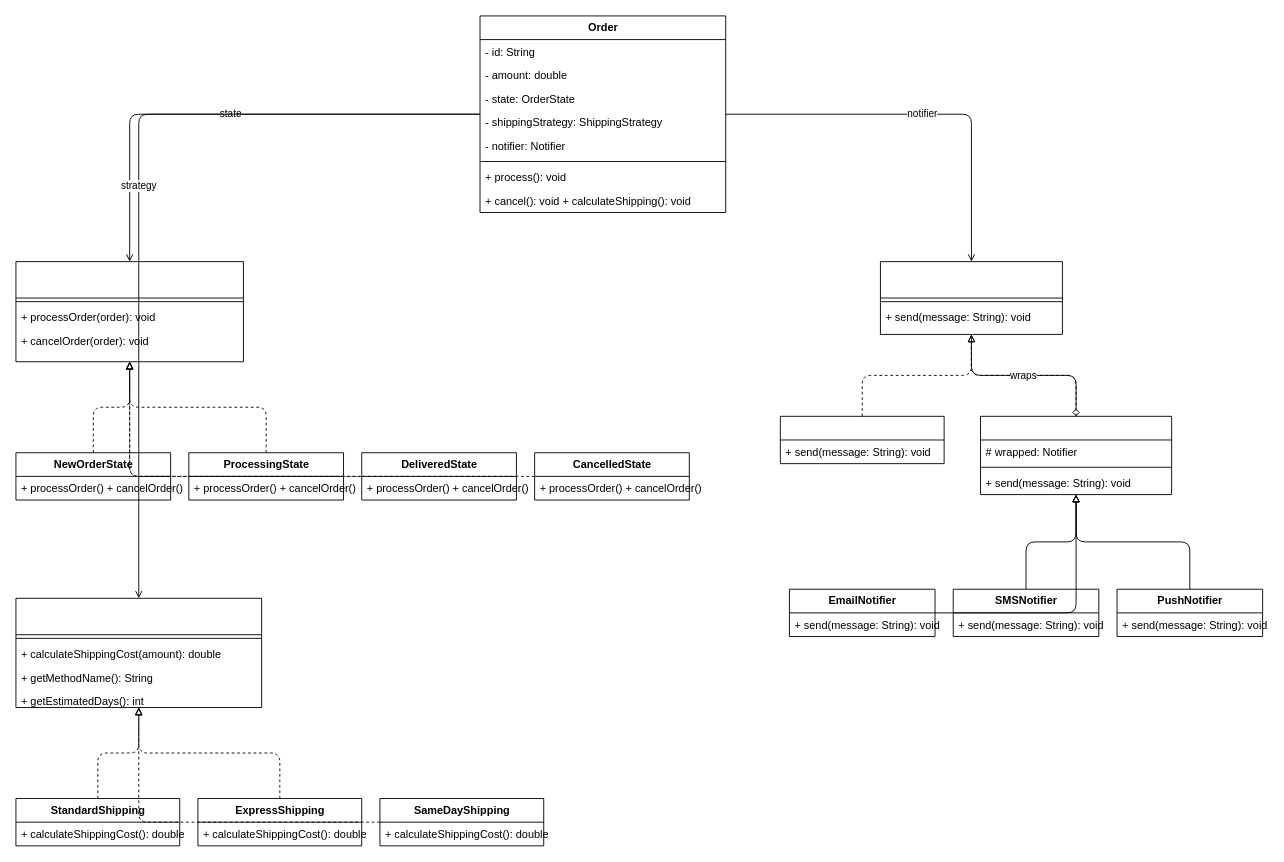
The diagram is 1284 pixels wide and 862 high, and some of its shapes have lost their labels. The box of each missing label's shape, as (x1, y1, x2, y2) in pixels:
BasicNotifier: (779, 415, 944, 464)
NotifierDecorator: (980, 415, 1172, 495)
«interface» Notifier: (880, 261, 1062, 334)
«interface» OrderState: (15, 261, 243, 362)
«interface» ShippingStrategy: (15, 597, 262, 708)
